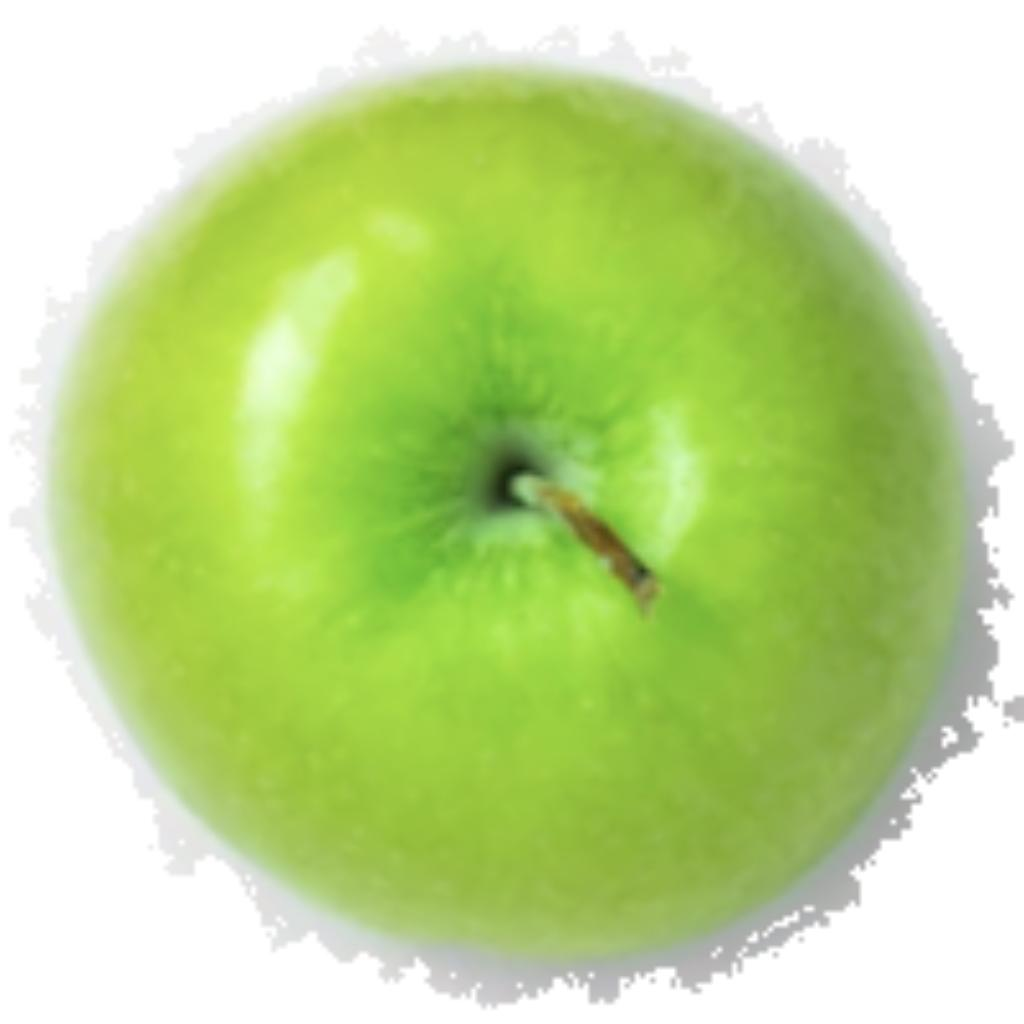apple: (5, 20, 1019, 1009)
